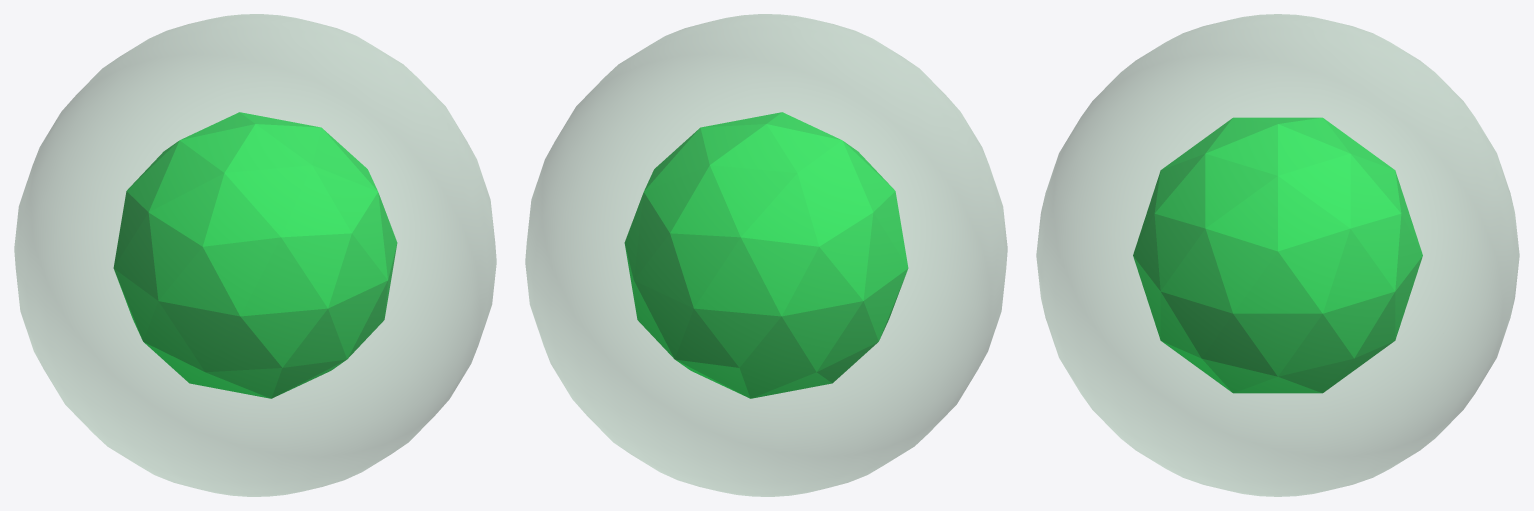
The picture shows the model from 3 angles, left to right: view 1: azimuth 30°, elevation 25°; view 2: azimuth 150°, elevation 25°; view 3: azimuth 270°, elevation 25°; orthographic projection.
Parts seen in each view (by area): view 1: 球, ICO球; view 2: 球, ICO球; view 3: 球, ICO球.
Boxes of the visible parts, x1,y1,x2,y2 form: 球: (14,14,496,496); ICO球: (113,112,397,398); 球: (525,14,1007,496); ICO球: (624,112,908,398); 球: (1036,14,1519,496); ICO球: (1133,117,1422,393).
Bounding box in the file's own units: 2 × 2 × 2.
